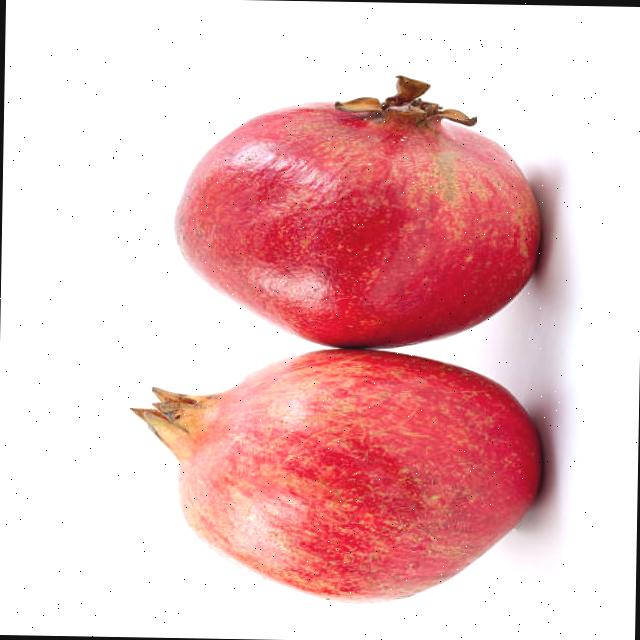Ripe: (167, 86, 548, 355), (157, 344, 542, 610)
